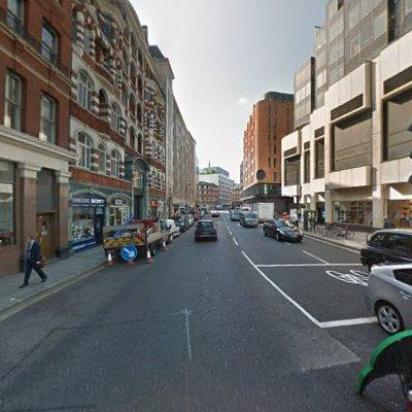moving-car: (362, 260, 412, 338), (359, 224, 411, 280), (262, 218, 304, 242), (194, 219, 216, 240), (211, 210, 219, 218)
moving-light-truck: (238, 211, 258, 227), (231, 209, 241, 221)
stationary-bicycle-onstreet: (327, 222, 340, 236)
stationary-car-onstreet: (184, 214, 194, 226), (193, 212, 201, 222)
stationary-heavy-truck-onstreet: (104, 216, 172, 264), (252, 202, 274, 223)
stationary-light-truck-onstreet: (159, 218, 181, 238), (172, 215, 188, 231)
